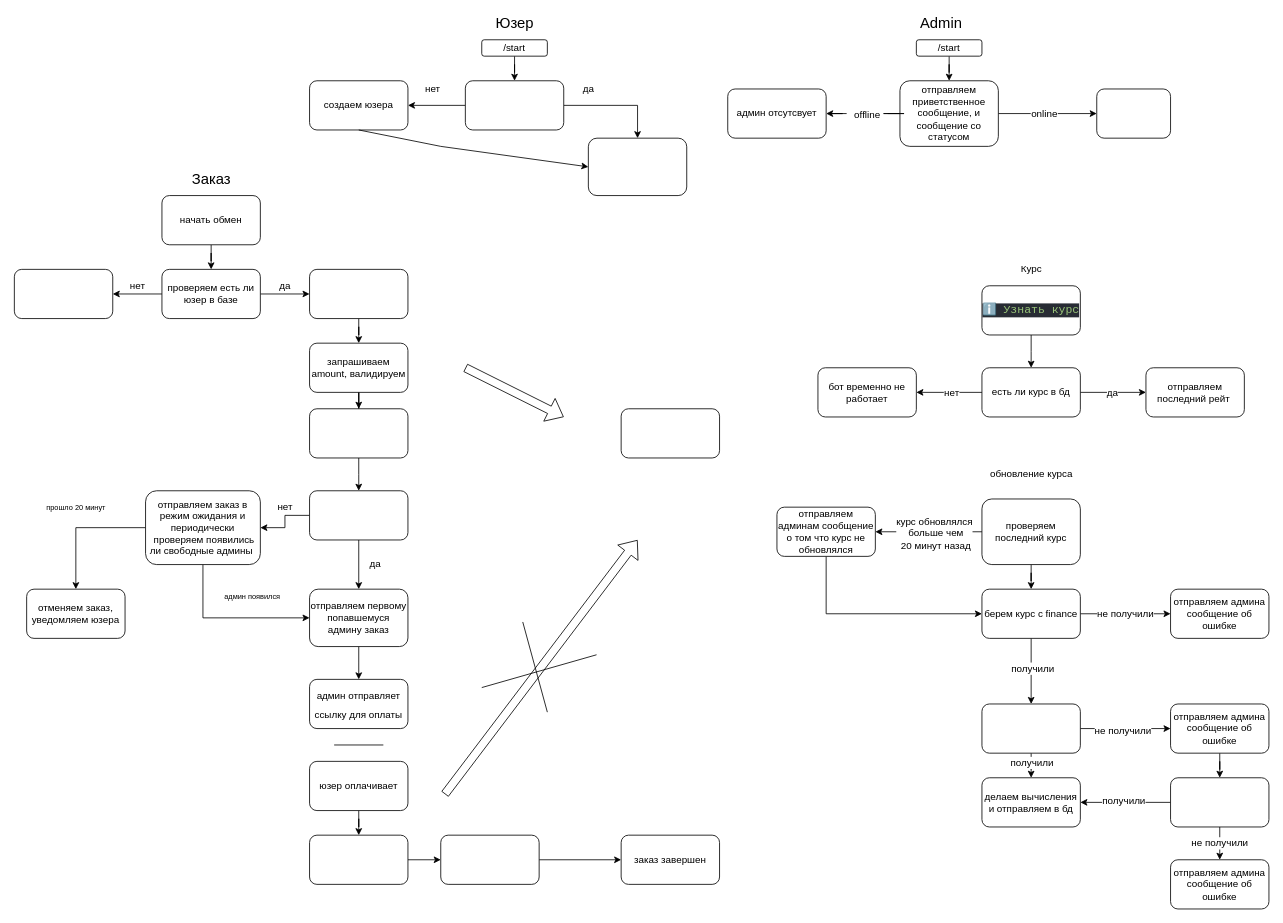
Some shapes in this 1283 by 923 pixel diagram are drawn without their labels. The centre of each missing label's shape, as x and y in pixels:
"админ готов принять заказы" belongs at point 1133,113.
"админ переводит деньги" belongs at point 489,859.
"админ подтверждает оплату" belongs at point 358,859.
"берем курс с best change" belongs at point 1219,802.
"берем курс с bestcoin" belongs at point 1030,728.
"есть ли свободные админы?" belongs at point 358,515.
"запрашиваем номер карты, валидируем" belongs at point 358,433.
"отмена заказа на любом этапе кроме этапов связанных с переводами" belongs at point 670,433.
"отправляем сообщение с рейтами" belongs at point 358,294.
"отправляем сообщение юзеру и уведомляем админов о новом юзере" belongs at point 637,166.
"создаем юезра, уведомляем админов" belongs at point 63,294.
"Существует ли юзер" belongs at point 514,105.
